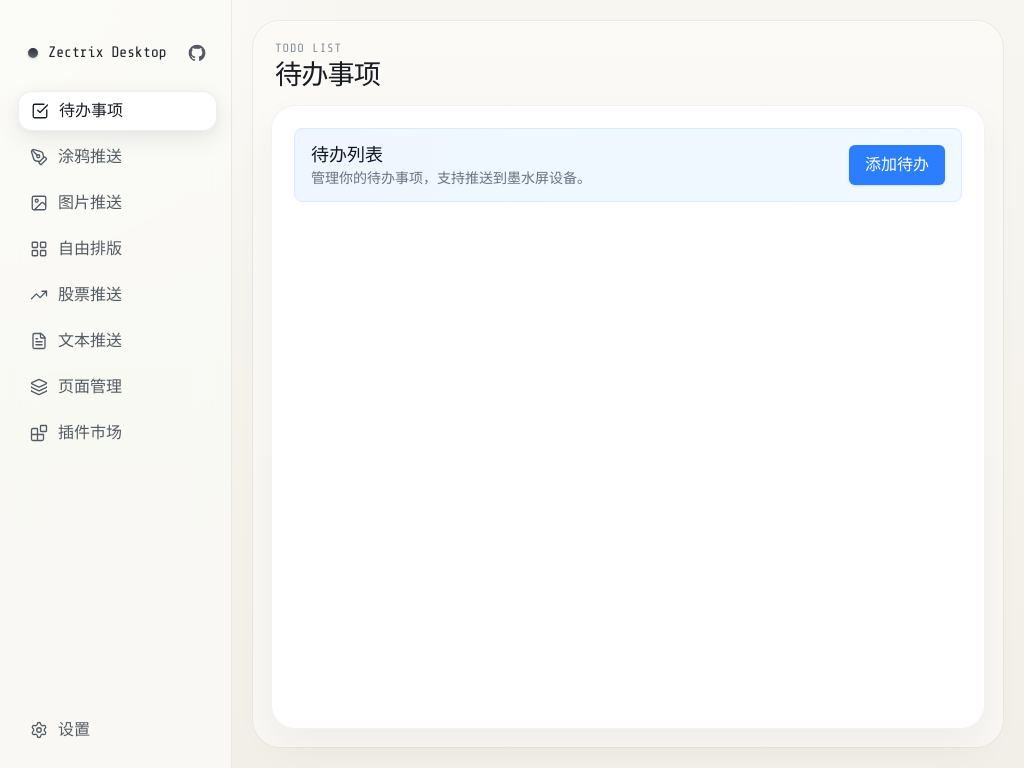
renders the plugin market route from the sidebar
The image size is (1024, 768).
Click the link "插件市场": (76, 433) [30,424,122,442]
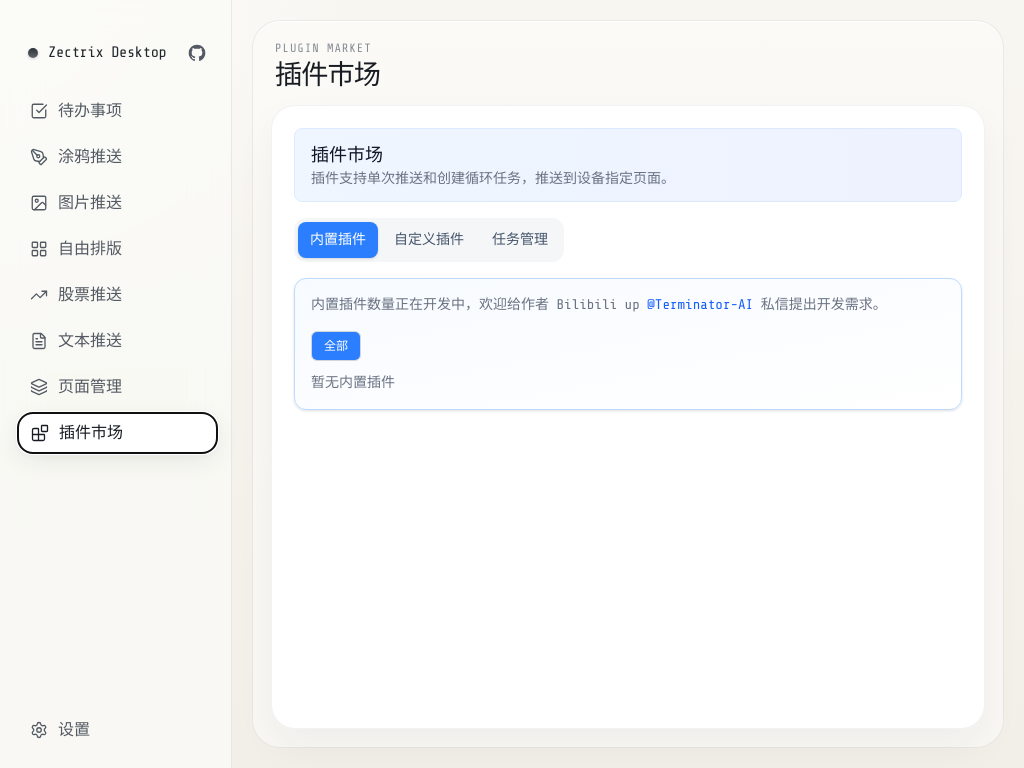
Expected: the text "暂无内置插件" is shown, [311,375,395,390]
新增插件按钮在自定义插件 tab，需要切换 tab
Click the tab "自定义插件": (429, 240) [382,222,476,258]
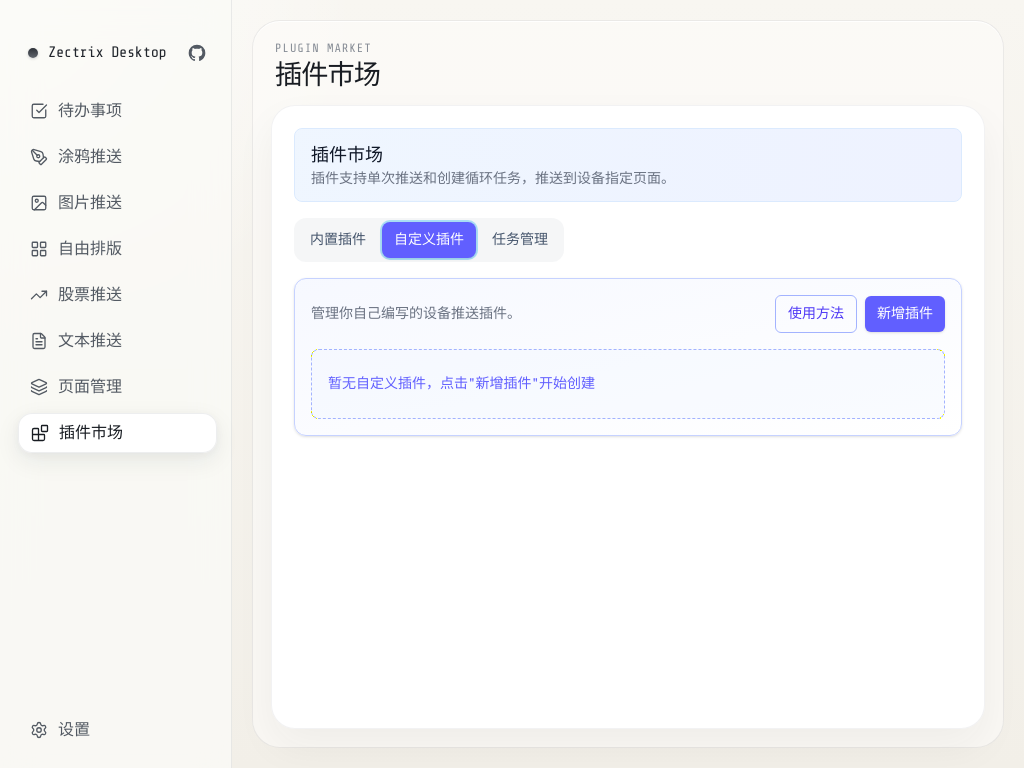
Expected: the button "新增插件" is shown, [865,296,945,332]
